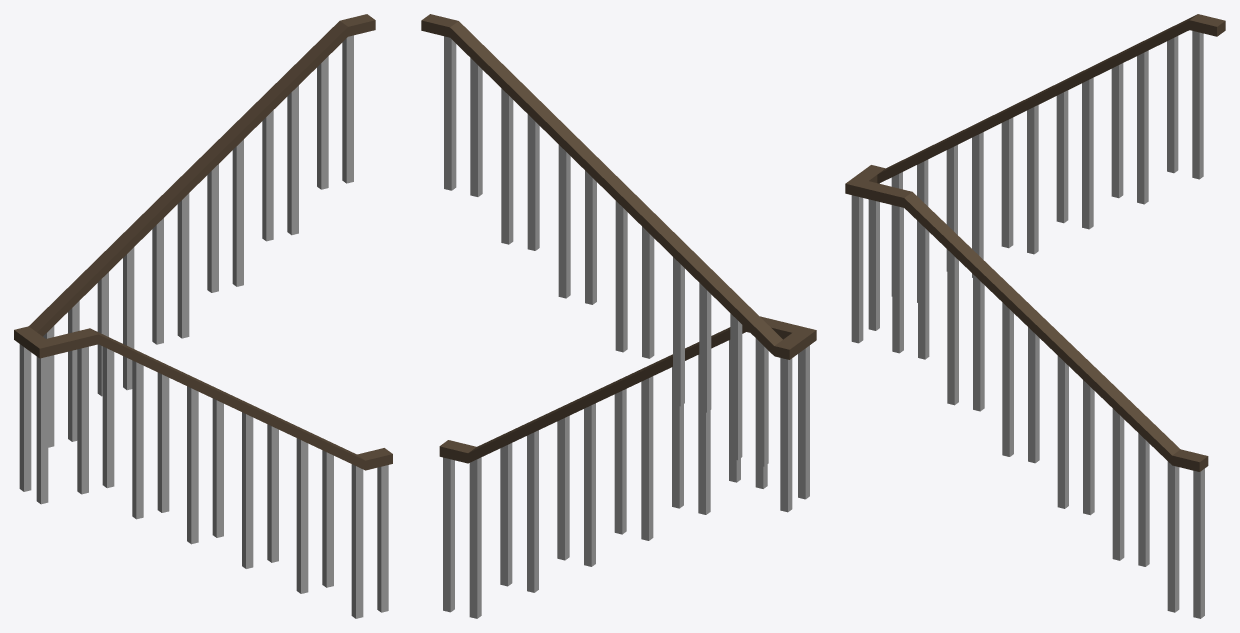
Rendered from SM_StairsU_01_rail.glb.
3 views of the same model, side by side, from view 1: azimuth 30°, elevation 25°; view 2: azimuth 150°, elevation 25°; view 3: azimuth 330°, elevation 25° (orthographic). The views are drawn at different scales.
Parts seen in each view (by area): view 1: SM_StairsU_01_rail; view 2: SM_StairsU_01_rail; view 3: SM_StairsU_01_rail.
Part boxes in pixels (x1,y1,x2,y2): SM_StairsU_01_rail: [14, 14, 392, 618]; SM_StairsU_01_rail: [421, 14, 816, 618]; SM_StairsU_01_rail: [845, 14, 1225, 618].
Size of the model in its own units: 2.41 by 3.78 by 0.305.
Materials: 1 (1 with a texture image).
